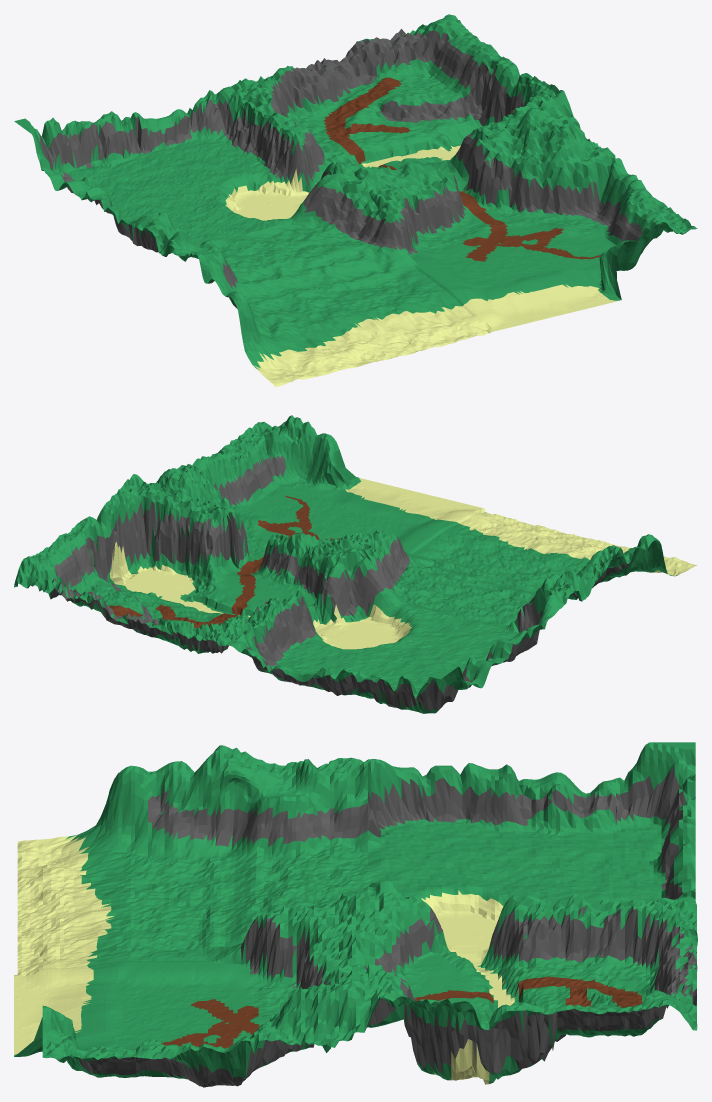
Rendered from Terrain.fbx.
3 renders of one model, top to bottom at view 1: azimuth 30°, elevation 25°; view 2: azimuth 150°, elevation 25°; view 3: azimuth 270°, elevation 25°, orthographic. The views are drawn at different scales.
Parts seen in each view (by area): view 1: Plane.002; view 2: Plane.002; view 3: Plane.002.
Boxes of the visible parts, x1,y1,x2,y2 form: Plane.002: (14, 14, 697, 386); Plane.002: (14, 415, 696, 713); Plane.002: (14, 742, 697, 1087).
Bounding box in the file's own units: 2005 × 402 × 2097.
